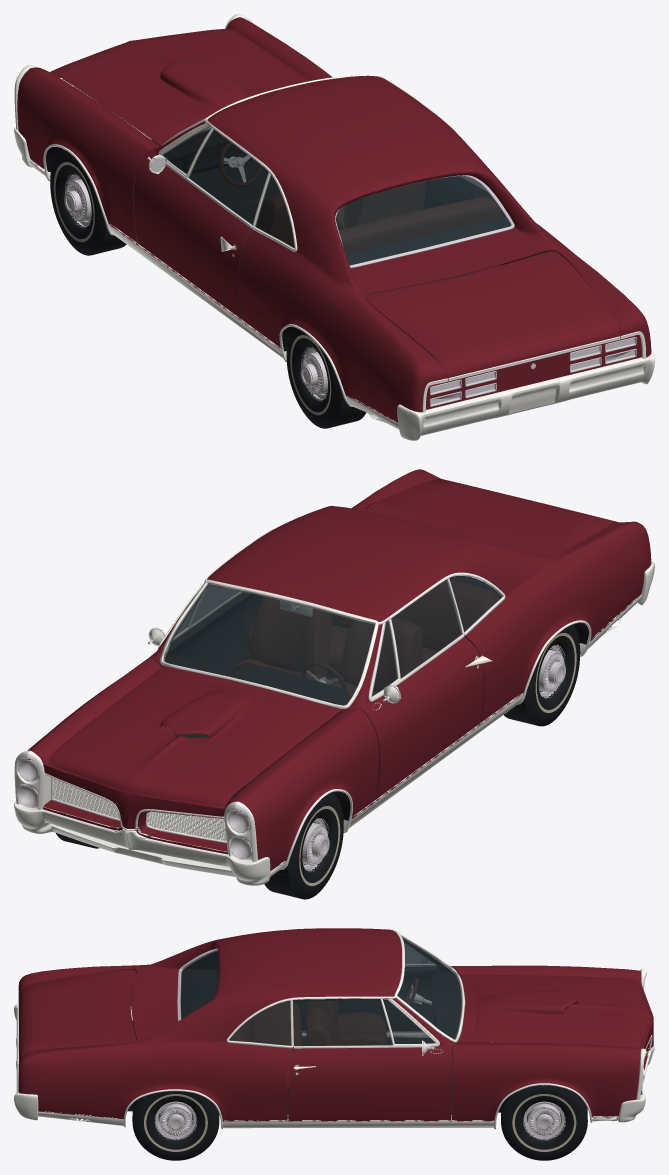
File: gto-low.glb
The picture shows the model from 3 angles, top to bottom: view 1: azimuth 30°, elevation 25°; view 2: azimuth 150°, elevation 25°; view 3: azimuth 270°, elevation 25°; orthographic projection. The views are drawn at different scales.
Parts seen in each view (by area): view 1: BODY_PAINT, GLASS, REAR_BUMPER, SEATS, STEEL_DETAILS, INNER_BODY, RL_WHEEL_MESH, FL_WHEEL_MESH, CHROME_TRIM, DASH; view 2: BODY_PAINT, GLASS, SEATS, REAR_BUMPER, STEEL_DETAILS, INNER_BODY, RL_WHEEL_MESH, FL_WHEEL_MESH, DASH, CHROME_TRIM, BLACK_TRIM; view 3: BODY_PAINT, GLASS, STEEL_DETAILS, RR_WHEEL_MESH, INNER_BODY, SEATS, FR_WHEEL_MESH, REAR_BUMPER, DASH, CHROME_TRIM.
Boxes of the visible parts, bbox=[...] form: BODY_PAINT: bbox=[17, 17, 651, 423]; GLASS: bbox=[162, 126, 510, 265]; REAR_BUMPER: bbox=[14, 14, 654, 440]; SEATS: bbox=[250, 181, 501, 298]; STEEL_DETAILS: bbox=[29, 75, 487, 429]; INNER_BODY: bbox=[133, 149, 547, 319]; RL_WHEEL_MESH: bbox=[50, 148, 126, 255]; FL_WHEEL_MESH: bbox=[286, 327, 366, 428]; CHROME_TRIM: bbox=[150, 157, 636, 406]; DASH: bbox=[164, 130, 252, 173]; BODY_PAINT: bbox=[27, 469, 651, 870]; GLASS: bbox=[163, 576, 502, 705]; SEATS: bbox=[236, 579, 498, 727]; REAR_BUMPER: bbox=[14, 526, 654, 885]; STEEL_DETAILS: bbox=[148, 528, 641, 877]; INNER_BODY: bbox=[159, 576, 501, 798]; RL_WHEEL_MESH: bbox=[264, 792, 343, 899]; FL_WHEEL_MESH: bbox=[504, 624, 580, 726]; DASH: bbox=[161, 655, 350, 723]; CHROME_TRIM: bbox=[17, 530, 600, 859]; BLACK_TRIM: bbox=[140, 622, 588, 848]; BODY_PAINT: bbox=[18, 928, 653, 1121]; GLASS: bbox=[180, 935, 462, 1045]; STEEL_DETAILS: bbox=[38, 928, 617, 1129]; RR_WHEEL_MESH: bbox=[501, 1085, 587, 1160]; INNER_BODY: bbox=[181, 939, 490, 1120]; SEATS: bbox=[229, 1001, 386, 1105]; FR_WHEEL_MESH: bbox=[132, 1091, 219, 1160]; REAR_BUMPER: bbox=[14, 969, 654, 1122]; DASH: bbox=[432, 971, 461, 1039]; CHROME_TRIM: bbox=[177, 948, 642, 1094].
Size of the model in its own units: 1.92 by 1.44 by 5.18.
